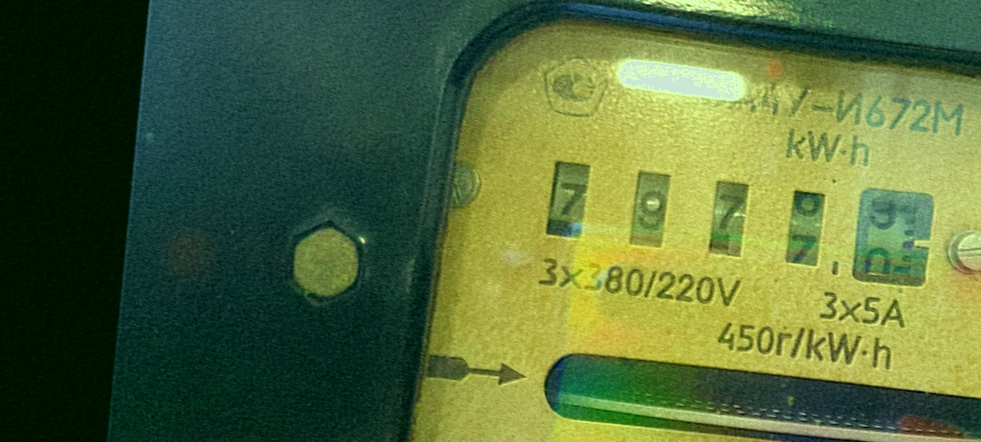0: (861, 241, 898, 282)
7: (555, 178, 590, 223), (714, 190, 748, 235), (787, 230, 820, 269)
9: (634, 186, 672, 234), (868, 194, 902, 233)
screen: (524, 136, 963, 312)
